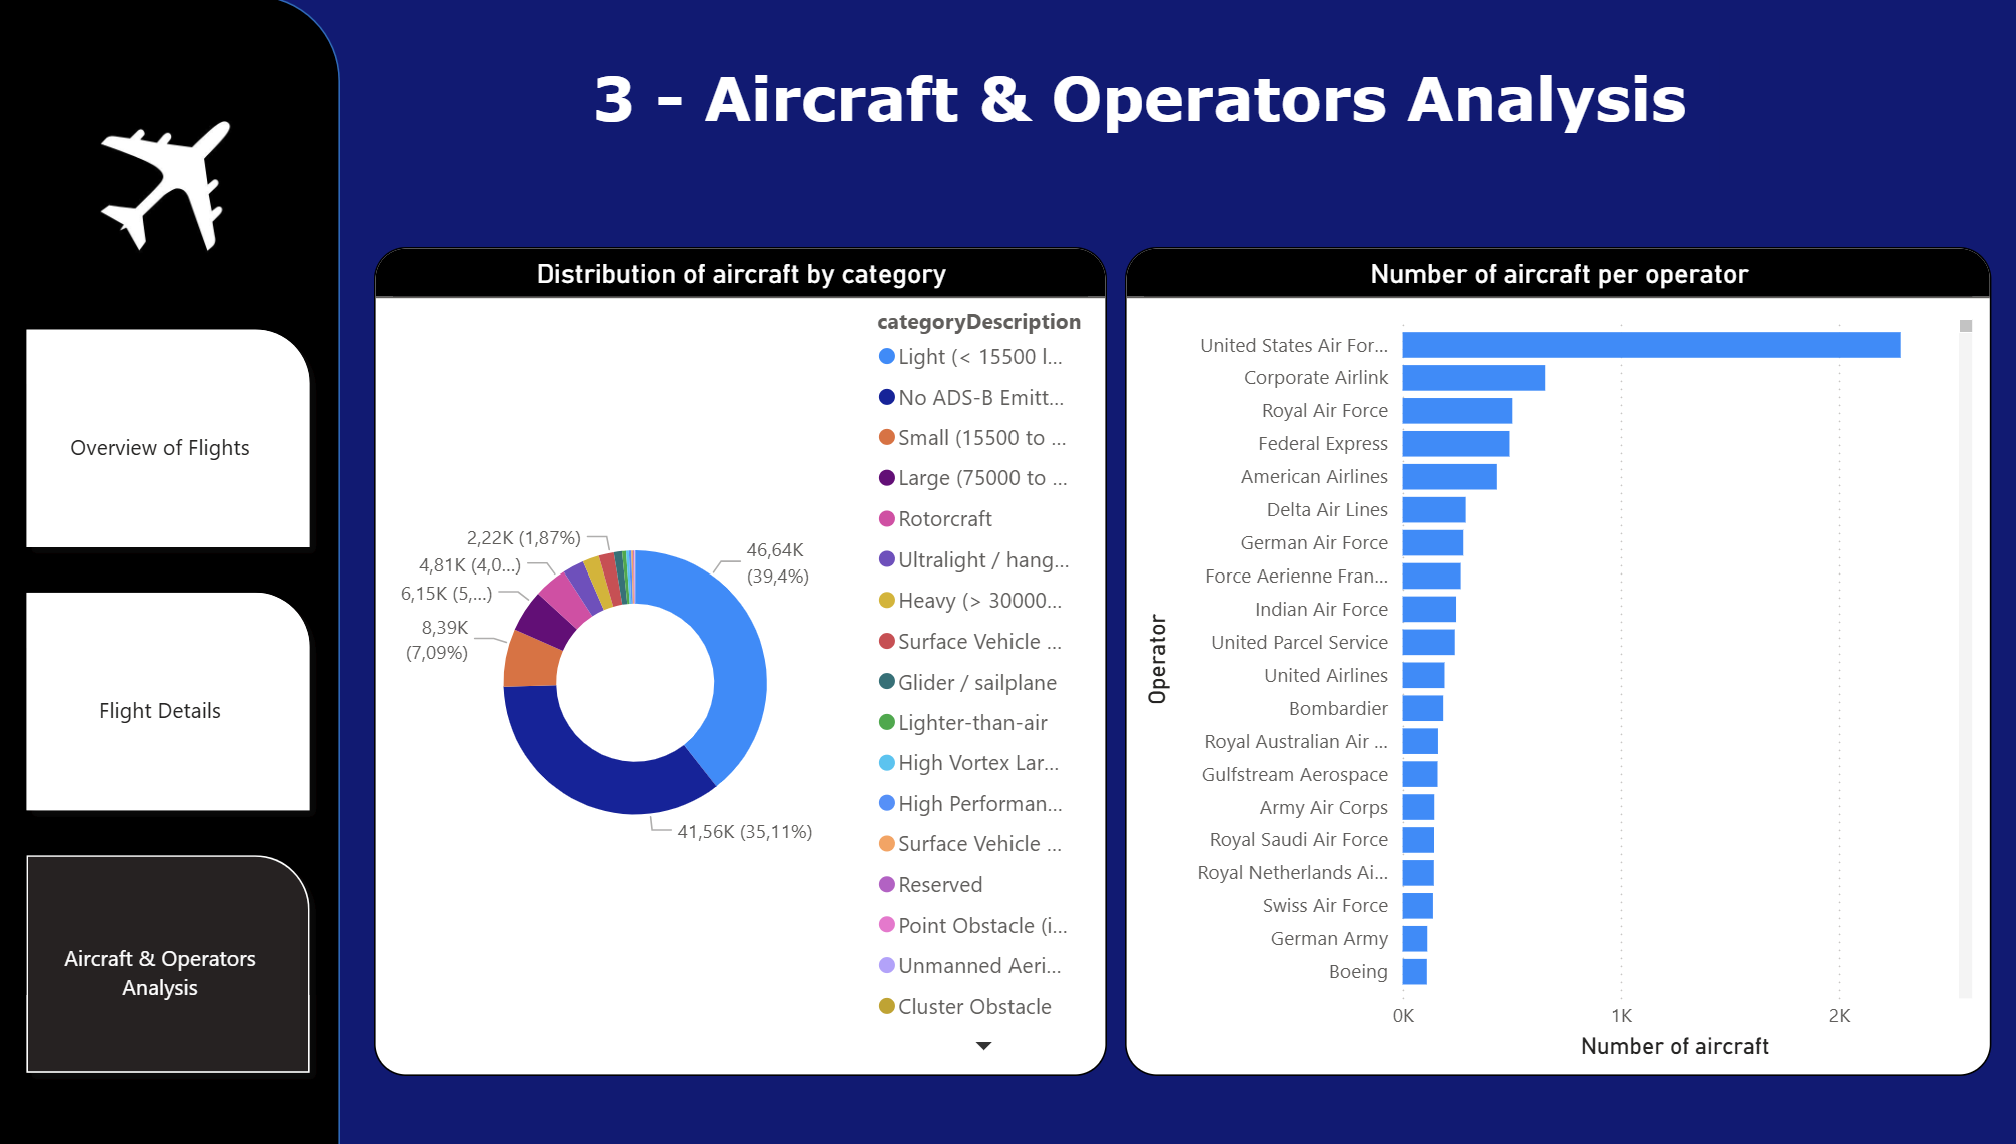

What the dashboard file says about the page in this screenshot:
{"tool":"powerbi","page":{"name":"Aircraft & Operators Analysis","canvas":[1280,720],"ordinal":2},"visuals":[{"type":"donutChart","title":"Distribution of aircraft by category","fields":{"Y":["CountNonNull(aircraft_ref.categoryDescription)"],"Category":["aircraft_ref.categoryDescription"]},"box":[250,157.5,457.5,517.5],"z":0},{"type":"barChart","title":"Number of aircraft per operator","fields":{"Y":["CountNonNull(aircraft_ref.icao24)"],"Category":["aircraft_ref.operator"]},"box":[718.8,157.5,541.2,517.5],"z":1000},{"type":"shape","box":[13.8,0,215,720],"z":2000},{"type":"image","box":[40,37.5,161.2,161.2],"z":3000},{"type":"pageNavigator","box":[23.8,200,195,483.8],"z":4000},{"type":"textbox","box":[366.2,36.2,723.8,82.5],"z":5000}]}

Visuals, with their boxes in screenshot pixels (x1, y1, x2, y2), scaled from the page's 1280x720 canvas onto the 2016x1144 screenshot:
"Distribution of aircraft by category" donutChart: {"x1": 394, "y1": 250, "x2": 1114, "y2": 1072}
"Number of aircraft per operator" barChart: {"x1": 1132, "y1": 250, "x2": 1984, "y2": 1072}
shape: {"x1": 22, "y1": 0, "x2": 360, "y2": 1143}
image: {"x1": 63, "y1": 60, "x2": 317, "y2": 316}
pageNavigator: {"x1": 37, "y1": 318, "x2": 345, "y2": 1086}
textbox: {"x1": 577, "y1": 58, "x2": 1717, "y2": 189}
